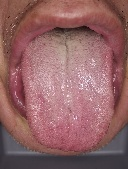tongue: (19, 42, 116, 154)
